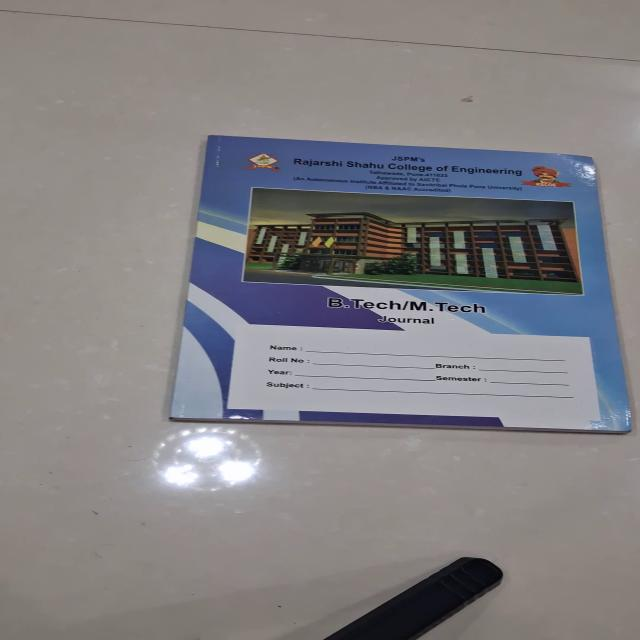paper: (166, 134, 632, 434)
